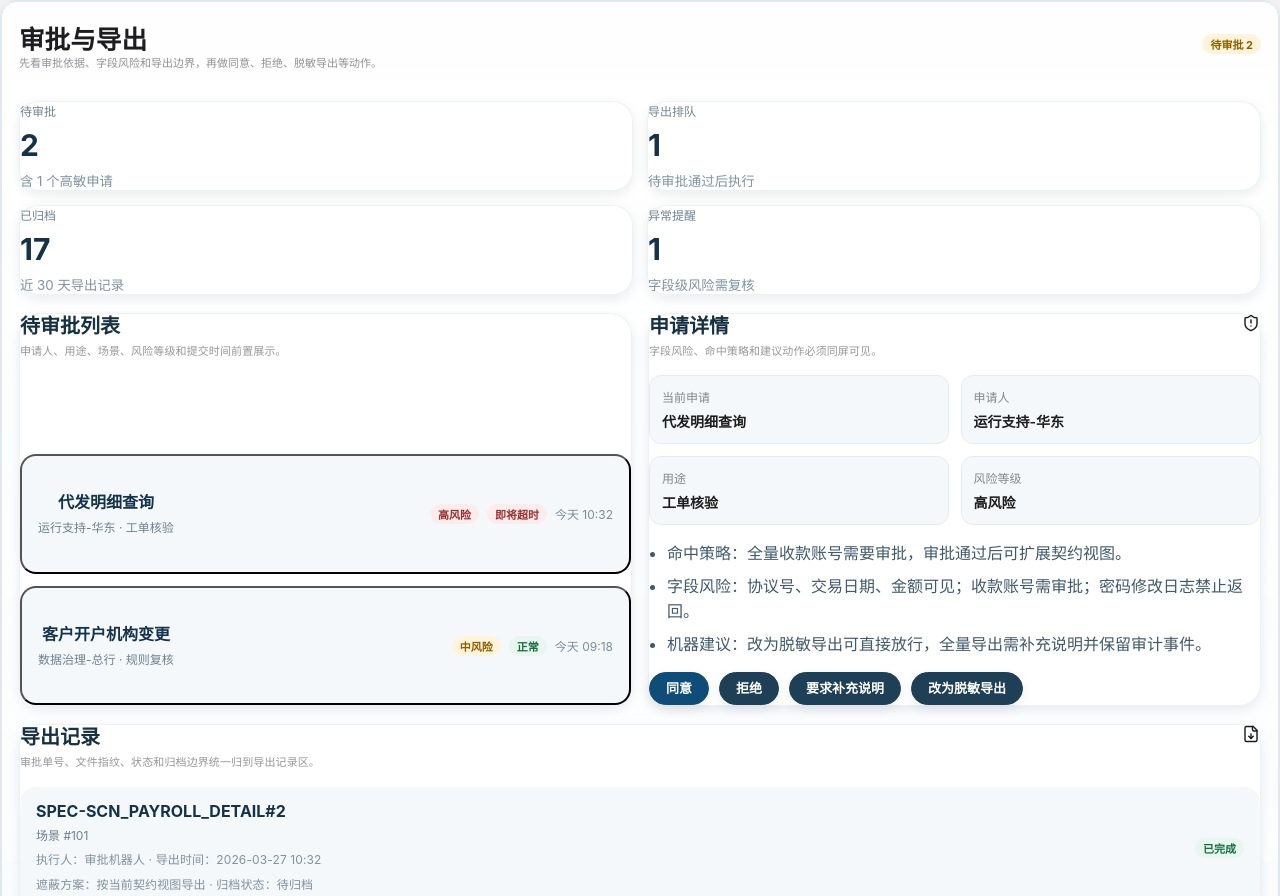
Test: ApprovalExportPage actions › loads real export history and appends the returned record after masked export
The image size is (1280, 896).
Expected: the text "SPEC-SCN_PAYROLL_DETAIL#2" is shown, [36, 801, 286, 821]
Click the button "改为脱敏导出". click: (967, 689)
box: [911, 672, 1023, 705]
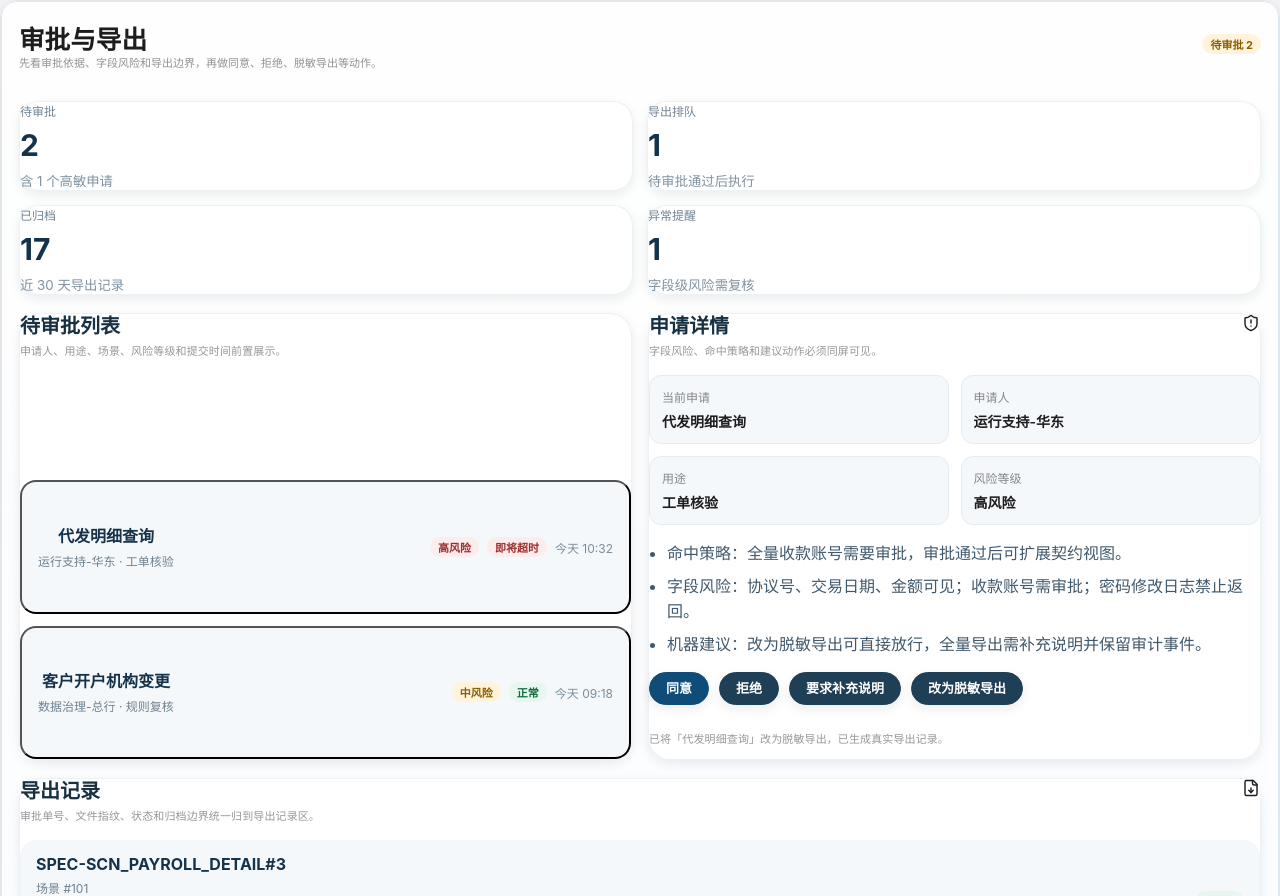
Expected: the text "SPEC-SCN_PAYROLL_DETAIL#3" is shown, [36, 854, 286, 874]
Expected: the text "已将「代发明细查询」改为脱敏导出，已生成真实导出记录。" is shown, [649, 732, 949, 746]
